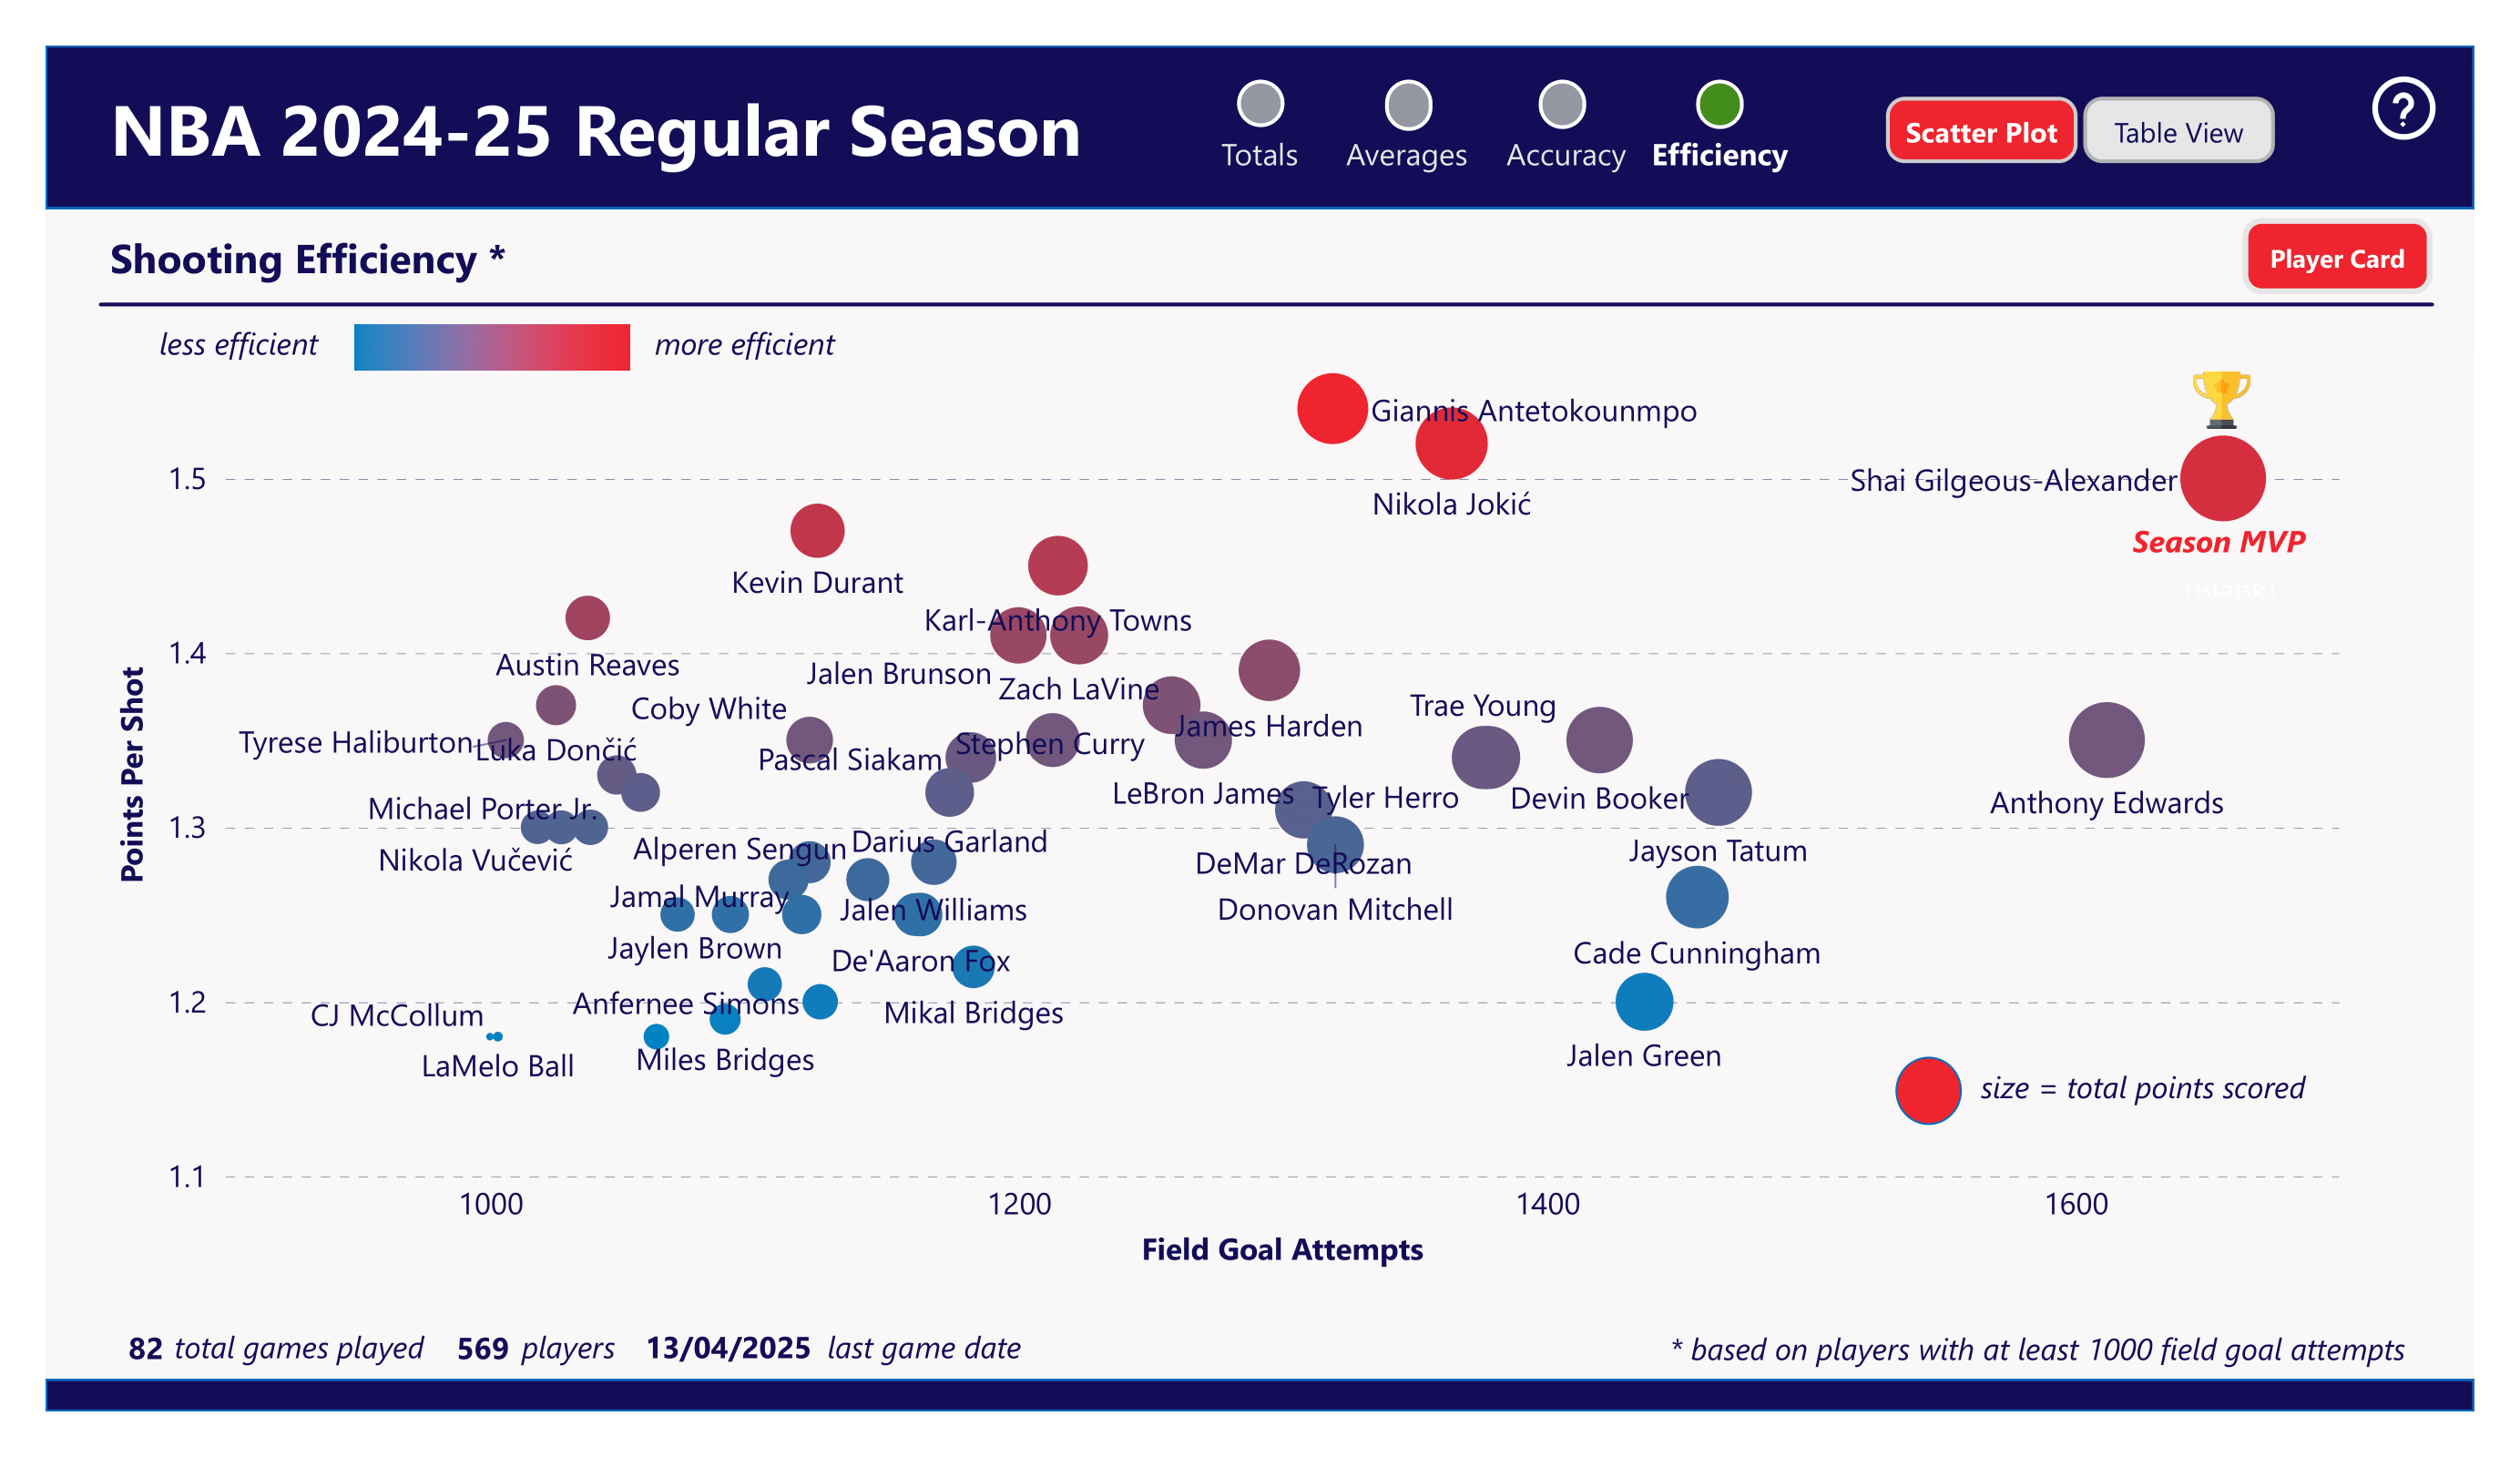

What the dashboard file says about the page in this screenshot:
{"tool":"powerbi","page":{"name":"NBA report","canvas":[1280,720],"ordinal":0},"visuals":[{"type":"shape","title":"tot_button","box":[627.2,18.2,25,25],"z":0,"group":"g4"},{"type":"shape","box":[28.2,80.9,1230.9,110.9],"z":0,"group":"g1"},{"type":"textbox","box":[99,143,74,36],"z":0,"group":"g3"},{"type":"shape","box":[0,0,1280,86.2],"z":1000,"group":"g1"},{"type":"shape","title":"acc_button","box":[786.6,18.2,25.3,26.5],"z":1000,"group":"g4"},{"type":"textbox","box":[310,144,128,36],"z":1000,"group":"g3"},{"type":"tableEx","fields":{"Values":["player_metadata.player_name","players_photos.photo_url","player_metadata.position","country_flags.Country Name (Common)","country_flags.Flag URL","player_metadata.team_name","team_logos.logo_url","Tops.stats_calcs"]},"box":[29.8,162.5,1201.8,518.2],"z":1000,"group":"g2"},{"type":"group","id":"g1","title":"Common","box":[0,0,1280,720],"z":1500},{"type":"textbox","box":[28.8,12.5,575,62.5],"z":2000,"group":"g1"},{"type":"group","id":"g2","title":"Totals","box":[28,18.2,1203.6,662.5],"z":2000},{"type":"shape","title":"avg_button","box":[705.4,18.2,25.3,27.1],"z":2000,"group":"g4"},{"type":"textbox","box":[475,143,128,36],"z":2000,"group":"g3"},{"type":"card","title":"col_title_total_stat","fields":{"Values":["Min(Tops.Metrics)"]},"box":[949.2,147.7,146,29.7],"z":2000,"group":"g2"},{"type":"actionButton","box":[1221.2,11.2,57.5,43.8],"z":3000,"group":"g1"},{"type":"slicer","title":"totals_selector","fields":{"Values":["Tops.Metrics"]},"box":[969,24.1,230,40],"z":3000,"group":"g2"},{"type":"actionButton","title":"tot_text","box":[605.7,42.6,68.3,27],"z":3000,"group":"g4"},{"type":"textbox","box":[646,143,128,36],"z":3000,"group":"g3"},{"type":"actionButton","title":"avg_text","box":[673.9,42.6,87.1,27],"z":4000,"group":"g4"},{"type":"card","fields":{"Values":["Min(Tops.Metrics)"]},"box":[28.5,97.5,471.2,36.5],"z":4000,"group":"g2"},{"type":"shape","box":[0,703,1280,17],"z":4000,"group":"g1"},{"type":"actionButton","title":"acc_text","box":[760.8,42.6,81.2,27],"z":5000,"group":"g4"},{"type":"actionButton","title":"Player Button","box":[1157.8,91.1,100,40],"z":5000,"group":"g1"},{"type":"group","id":"g3","title":"first_4_titles_col","box":[99,143,675,37],"z":5000,"group":"g2"},{"type":"shape","title":"eff_button","box":[869.4,18.2,25.3,26.5],"z":6000,"group":"g4"},{"type":"actionButton","title":"Info Player Button","box":[791.7,91.3,467.7,39.9],"z":6000,"group":"g1"},{"type":"shape","title":"table_line","box":[28,168,1195,25],"z":6000,"group":"g2"},{"type":"card","title":"games played","fields":{"Values":["Max(player_totals.gp)"]},"box":[30.4,661.4,45.4,54.1],"z":6015,"group":"g1"},{"type":"textbox","title":"games_played_text","box":[62.5,670,156.7,33.3],"z":6031,"group":"g1"},{"type":"card","title":"players","fields":{"Values":["CountNonNull(player_totals.player_id)"]},"box":[207.8,661.4,45.4,54.1],"z":6062,"group":"g1"},{"type":"textbox","title":"players_text","box":[245.6,670,85.6,32.2],"z":6125,"group":"g1"},{"type":"textbox","title":"last_date","box":[310.8,669.9,145.7,31.4],"z":6250,"group":"g1"},{"type":"textbox","title":"last_date_text","box":[406.7,670,142.2,34.4],"z":6500,"group":"g1"},{"type":"group","id":"g4","title":"switcher","box":[605.7,18.2,317.3,51.4],"z":7000,"group":"g2"},{"type":"actionButton","title":"eff_text","box":[841.8,42.3,81.2,27.1],"z":7000,"group":"g4"}]}

Visuals, with their boxes on the page's 1280x720 design canvas (x1, y1, x2, y2). These are canvas units, not pixel positions in the 2520x1457 screenshot, which may show the page scaled, cropped or inside an application window:
"tot_button" shape: <box>627,18,652,43</box>
shape: <box>28,81,1259,192</box>
textbox: <box>99,143,173,179</box>
shape: <box>0,0,1280,86</box>
"acc_button" shape: <box>787,18,812,45</box>
textbox: <box>310,144,438,180</box>
tableEx - player_metadata.player_name x players_photos.photo_url: <box>30,162,1232,681</box>
"Common" group: <box>0,0,1280,720</box>
textbox: <box>29,12,604,75</box>
"Totals" group: <box>28,18,1232,681</box>
"avg_button" shape: <box>705,18,731,45</box>
textbox: <box>475,143,603,179</box>
"col_title_total_stat" card: <box>949,148,1095,177</box>
actionButton: <box>1221,11,1279,55</box>
"totals_selector" slicer: <box>969,24,1199,64</box>
"tot_text" actionButton: <box>606,43,674,70</box>
textbox: <box>646,143,774,179</box>
"avg_text" actionButton: <box>674,43,761,70</box>
card - Min(Tops.Metrics): <box>28,98,500,134</box>
shape: <box>0,703,1280,720</box>
"acc_text" actionButton: <box>761,43,842,70</box>
"Player Button" actionButton: <box>1158,91,1258,131</box>
"first_4_titles_col" group: <box>99,143,774,180</box>
"eff_button" shape: <box>869,18,895,45</box>
"Info Player Button" actionButton: <box>792,91,1259,131</box>
"table_line" shape: <box>28,168,1223,193</box>
"games played" card: <box>30,661,76,716</box>
"games_played_text" textbox: <box>62,670,219,703</box>
"players" card: <box>208,661,253,716</box>
"players_text" textbox: <box>246,670,331,702</box>
"last_date" textbox: <box>311,670,456,701</box>
"last_date_text" textbox: <box>407,670,549,704</box>
"switcher" group: <box>606,18,923,70</box>
"eff_text" actionButton: <box>842,42,923,69</box>
